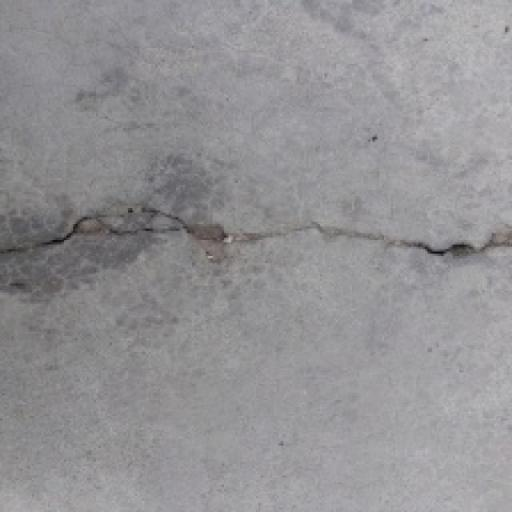moderate crack: (6, 209, 510, 265), (3, 249, 117, 297), (76, 65, 155, 113), (179, 219, 233, 264), (235, 221, 322, 241), (7, 278, 28, 289)
severe crack: (217, 283, 512, 503), (0, 3, 271, 236), (0, 282, 265, 504), (261, 3, 512, 186), (137, 225, 163, 232)
